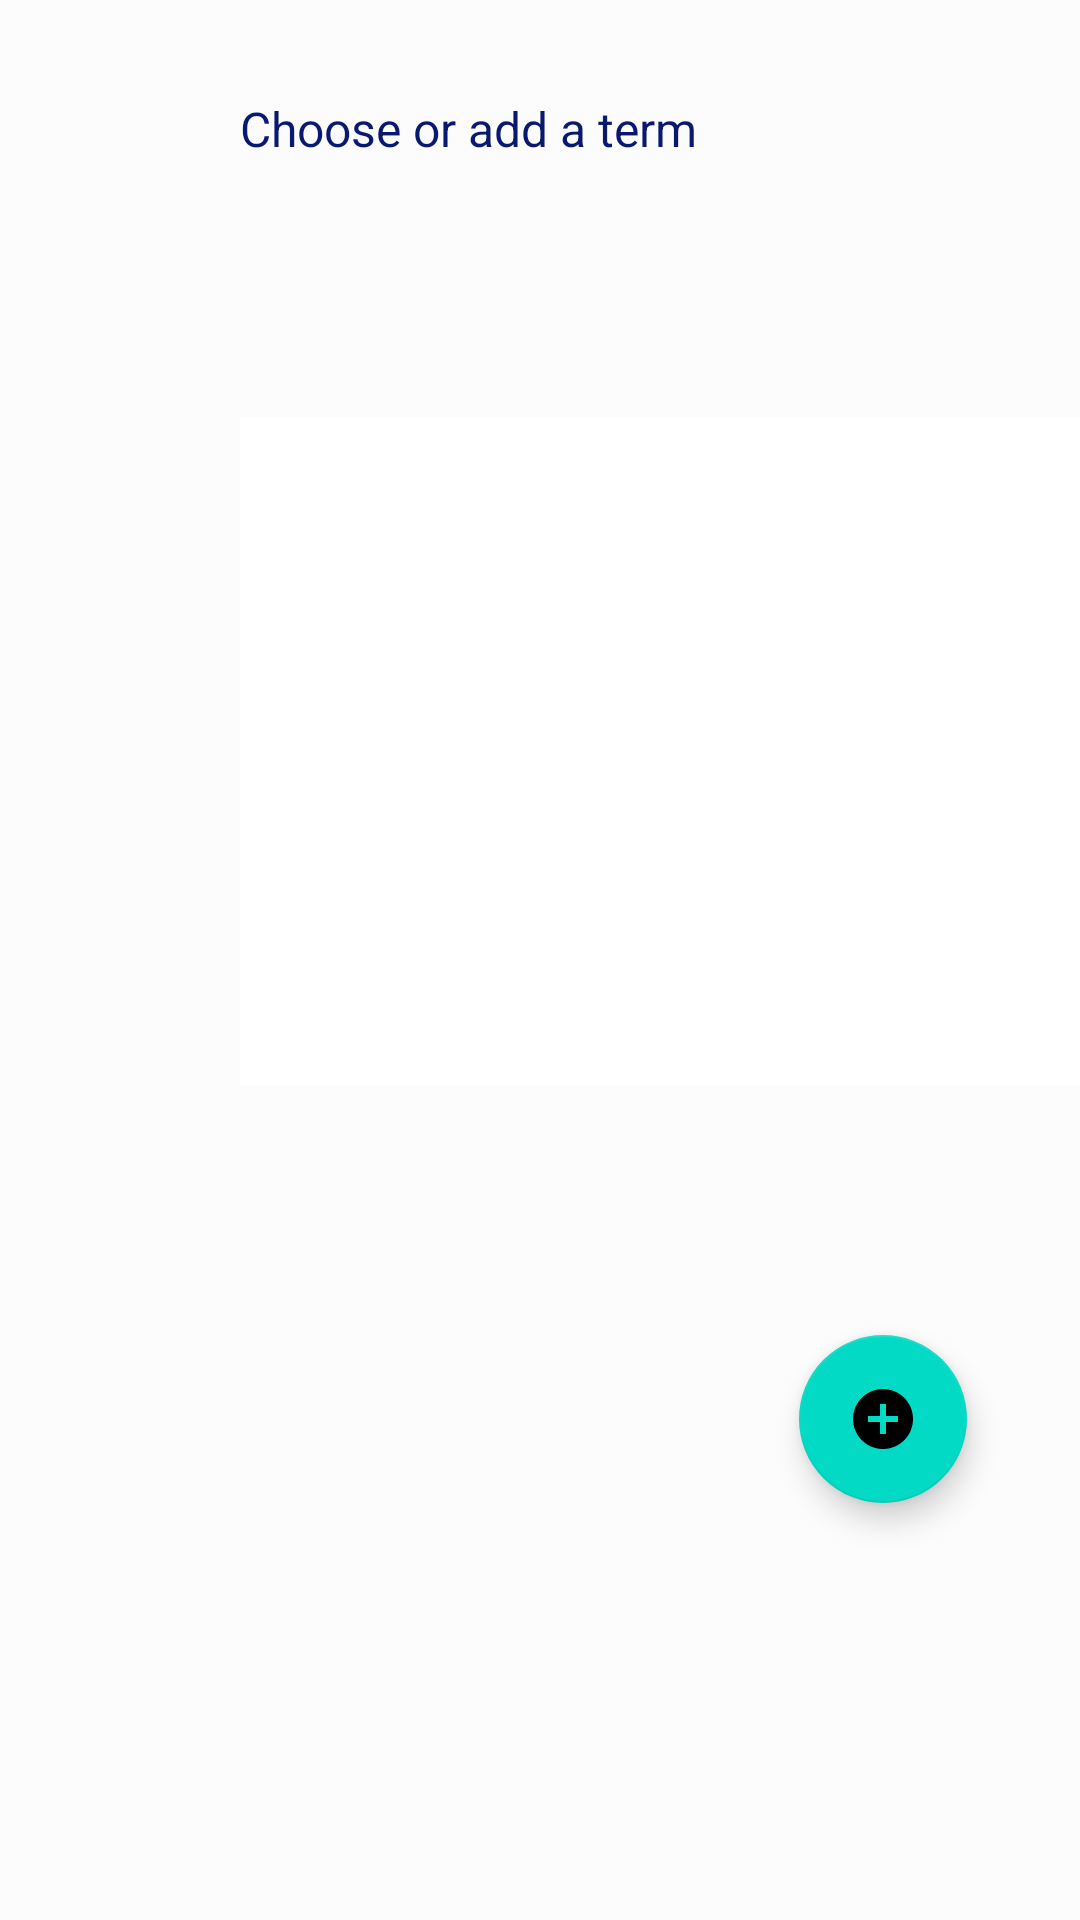

Icon bounding boxes for this 1080x1920 phone screenshot, format box=[x1, y1, x2, y2]:
add circle: box=[799, 1335, 967, 1503]
